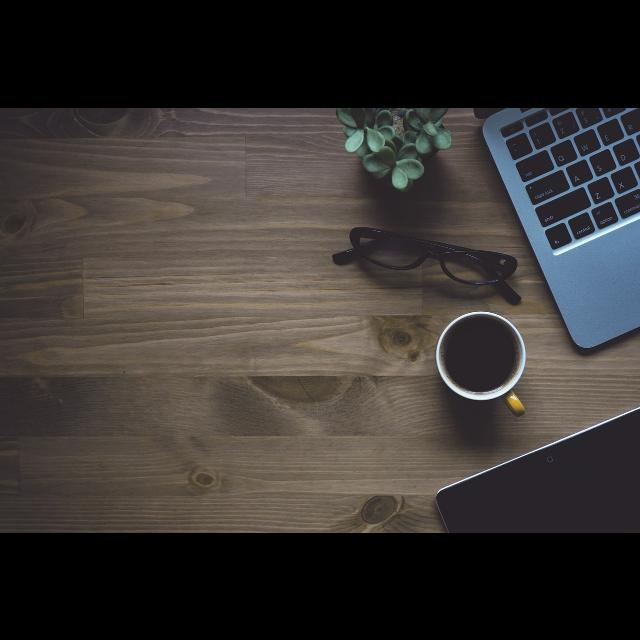glasses: (331, 221, 525, 307)
